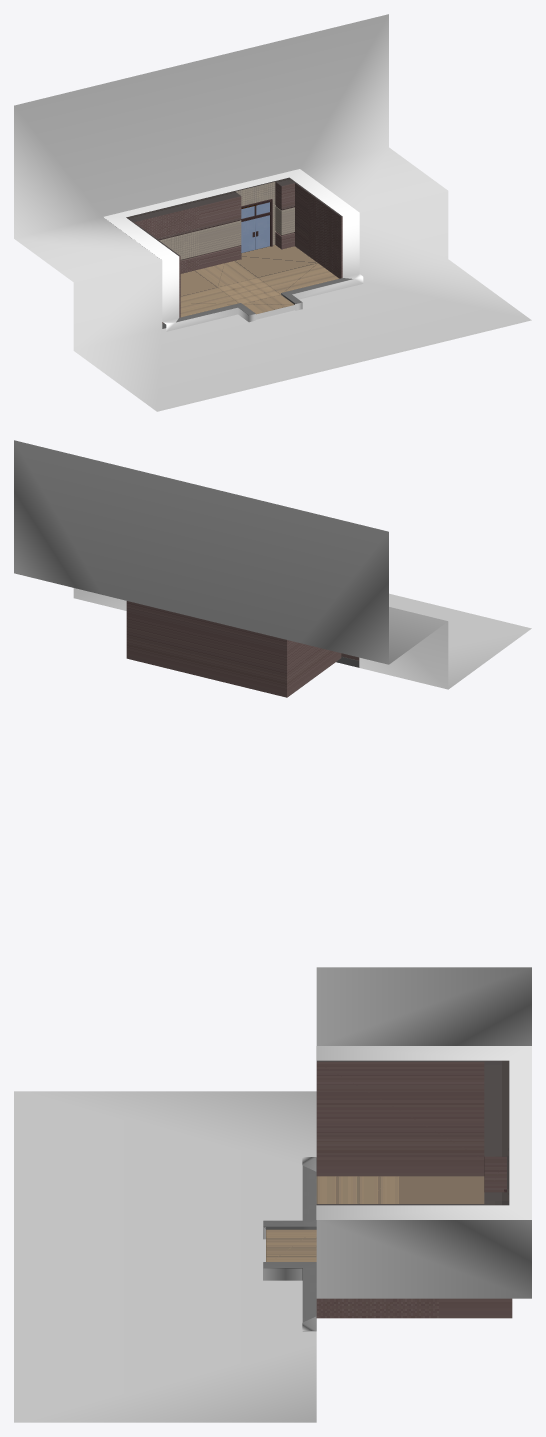
Rendered from a_com_building_b07.gltf.
The picture shows the model from 3 angles, top to bottom: view 1: azimuth 30°, elevation 25°; view 2: azimuth 150°, elevation 25°; view 3: azimuth 270°, elevation 25°; orthographic projection. The views are drawn at different scales.
Parts seen in each view (by area): view 1: a_com_building_b07_outsideblank01_mesh_shape:a_com_building_, um_a_com_building_b07_model_a_com_building_b07_modelShape:a_ (×6), nomerge_outside_edge_shape:mat_texture_edge02, a_com_building_b07_ceiling01_mesh_shape:a_com_building_b07_c; view 2: a_com_building_b07_outsideblank01_mesh_shape:a_com_building_, um_a_com_building_b07_model_a_com_building_b07_modelShape:a_; view 3: a_com_building_b07_outsideblank01_mesh_shape:a_com_building_, um_a_com_building_b07_model_a_com_building_b07_modelShape:a_ (×4), nomerge_outside_edge_shape:mat_texture_edge02, a_com_building_b07_ceiling01_mesh_shape:a_com_building_b07_c.
Part boxes in pixels (left/top/right/bottom): a_com_building_b07_outsideblank01_mesh_shape:a_com_building_: left=14, top=14, right=531, bottom=411; um_a_com_building_b07_model_a_com_building_b07_modelShape:a_ (×6): left=134, top=182, right=352, bottom=328; nomerge_outside_edge_shape:mat_texture_edge02: left=103, top=169, right=363, bottom=331; a_com_building_b07_ceiling01_mesh_shape:a_com_building_b07_c: left=126, top=177, right=342, bottom=256; a_com_building_b07_outsideblank01_mesh_shape:a_com_building_: left=14, top=440, right=531, bottom=689; um_a_com_building_b07_model_a_com_building_b07_modelShape:a_: left=126, top=601, right=359, bottom=697; a_com_building_b07_outsideblank01_mesh_shape:a_com_building_: left=14, top=967, right=531, bottom=1422; um_a_com_building_b07_model_a_com_building_b07_modelShape:a_ (×4): left=263, top=1062, right=512, bottom=1331; nomerge_outside_edge_shape:mat_texture_edge02: left=263, top=1046, right=531, bottom=1330; a_com_building_b07_ceiling01_mesh_shape:a_com_building_b07_c: left=316, top=1060, right=509, bottom=1205.
Bounding box in the file's own units: 28 × 14.38 × 18.5.
9 materials, 7 textured.
